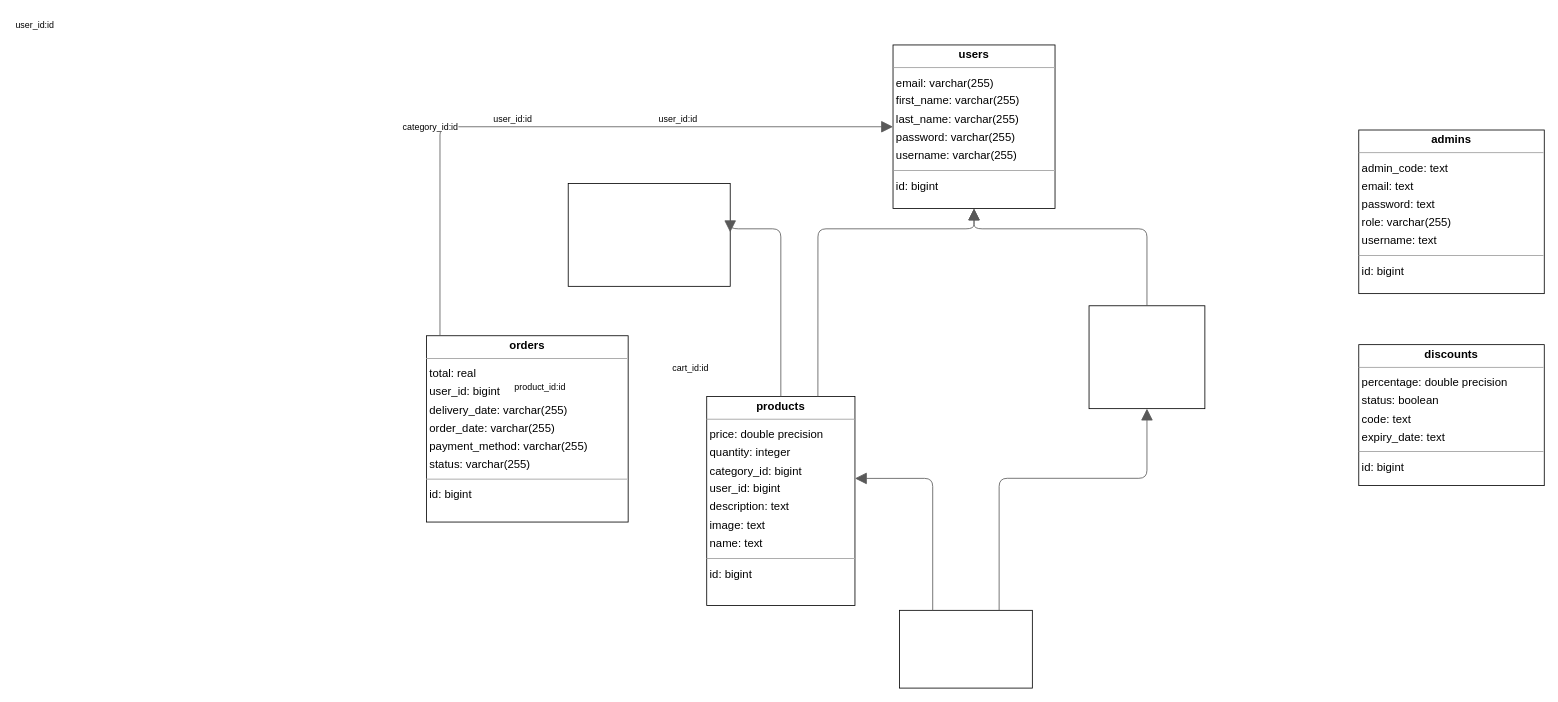
This 1558x702 diagram has some shape labels left out. Here are the shapes that lost their labels. From the top down, the centre of each, then its label:
At [648,234]: "product_category description: text name: text id: bigint".
At [1146,357]: "cart quantity: integer user_id: bigint id: bigint".
At [965,649]: "cart_products cart_id: bigint product_id: bigint".
